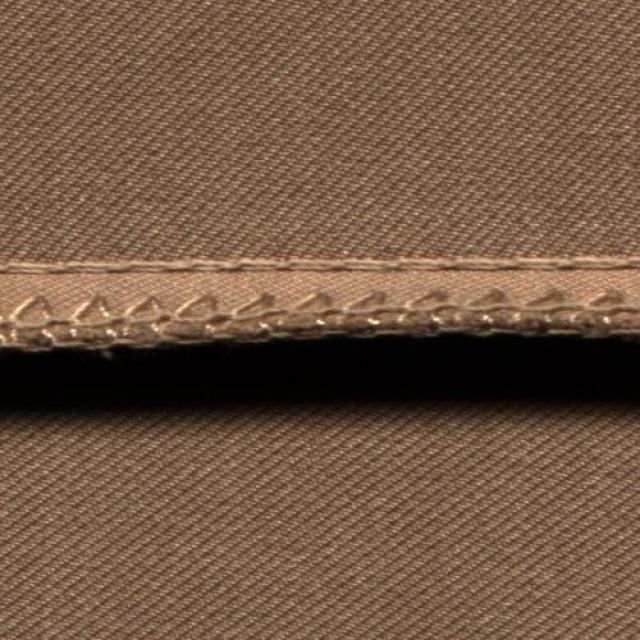gray stitch: (1, 252, 640, 366)
